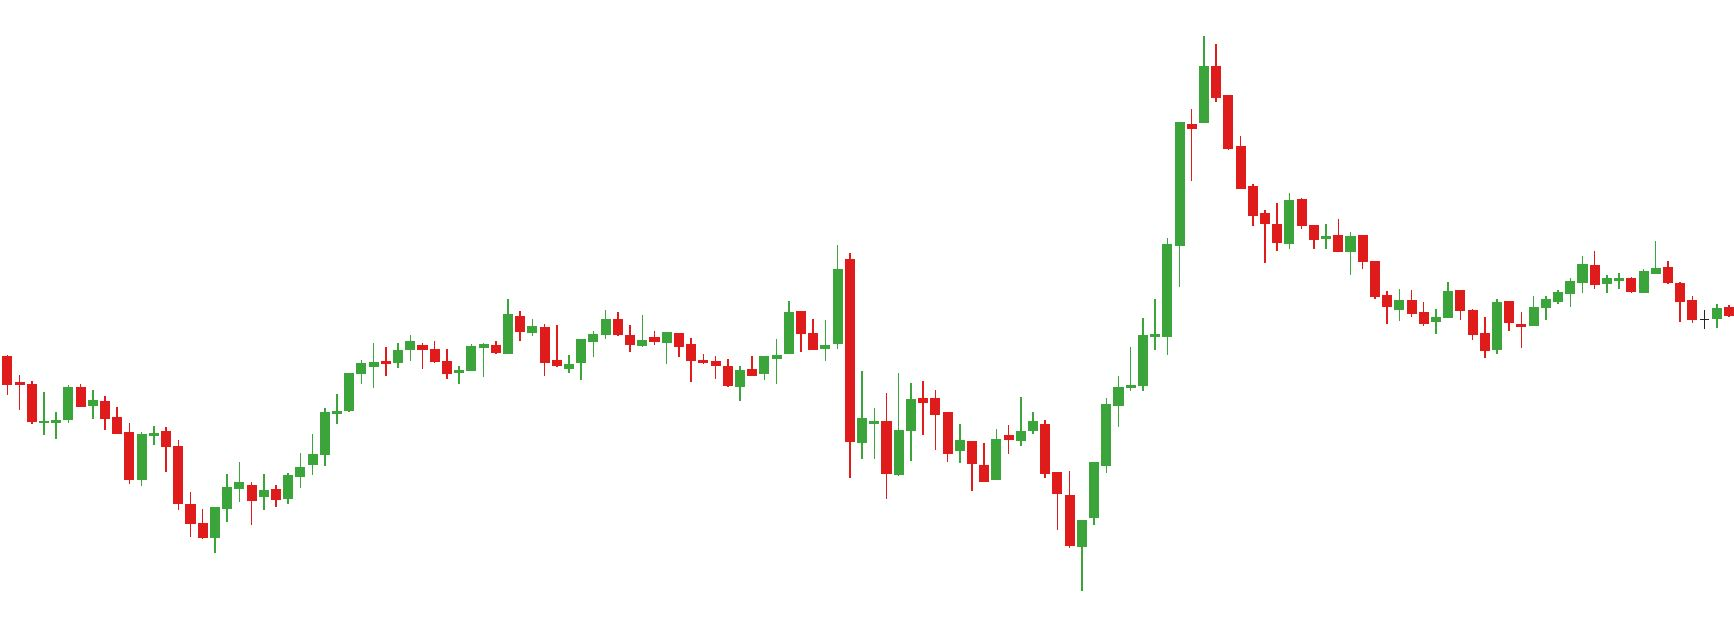buy: (967, 434, 1101, 590)
